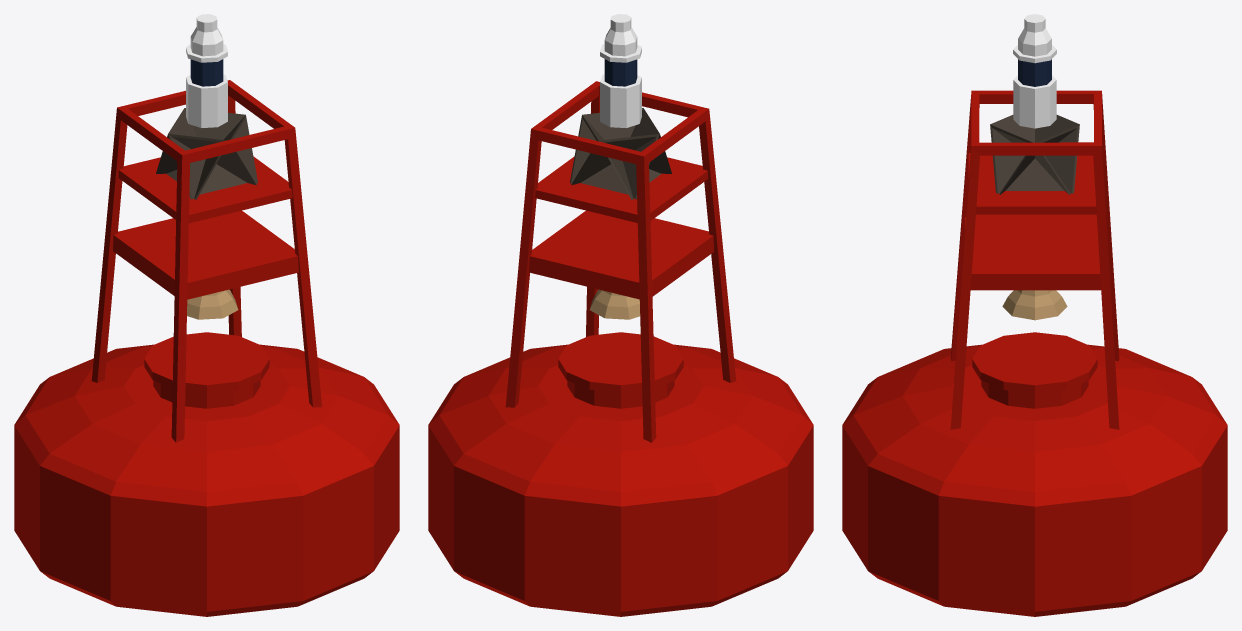
File: buoyMarker.glb
3 renders of one model, left to right at view 1: azimuth 30°, elevation 25°; view 2: azimuth 150°, elevation 25°; view 3: azimuth 270°, elevation 25°, orthographic.
Visible parts, largest first — view 1: base, gantry, platform.middle, platform.top, horn, light, bell; view 2: base, gantry, platform.middle, platform.top, horn, light, bell; view 3: base, gantry, platform.middle, horn, platform.top, light, bell.
Boxes of the visible parts, x1,y1,x2,y2 form: base: [14, 332, 399, 616]; gantry: [91, 80, 322, 442]; platform.middle: [113, 210, 298, 299]; platform.top: [118, 156, 292, 223]; horn: [156, 108, 257, 199]; light: [186, 14, 227, 127]; bell: [187, 289, 238, 319]; base: [428, 332, 813, 616]; gantry: [505, 81, 736, 442]; platform.middle: [529, 210, 713, 299]; platform.top: [535, 156, 708, 222]; horn: [570, 108, 671, 199]; light: [600, 14, 641, 127]; bell: [589, 289, 640, 319]; base: [842, 332, 1227, 616]; gantry: [950, 90, 1119, 429]; platform.middle: [965, 214, 1101, 290]; horn: [990, 115, 1079, 194]; platform.top: [968, 153, 1096, 214]; light: [1013, 14, 1056, 128]; bell: [1002, 290, 1067, 320].
Bounding box in the file's own units: 2 × 2.99 × 2.
1 material, 1 textured.
